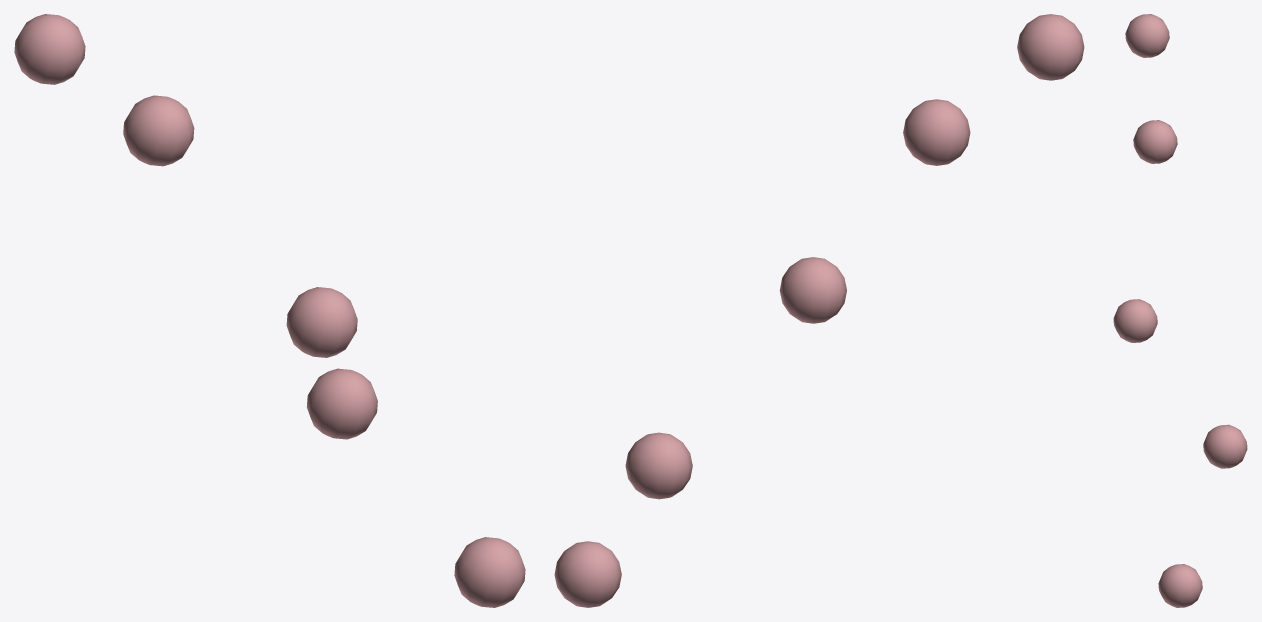
The picture shows the model from 3 angles, left to right: view 1: azimuth 30°, elevation 25°; view 2: azimuth 150°, elevation 25°; view 3: azimuth 270°, elevation 25°; orthographic projection. The views are drawn at different scales.
Parts seen in each view (by area): view 1: ZA_39c283643b7ee01d; view 2: ZA_39c283643b7ee01d; view 3: ZA_39c283643b7ee01d.
Boxes of the visible parts, x1=… form: ZA_39c283643b7ee01d: x1=14, y1=14, x2=525, y2=607; ZA_39c283643b7ee01d: x1=554, y1=14, x2=1084, y2=607; ZA_39c283643b7ee01d: x1=1113, y1=14, x2=1247, y2=607.
Bounding box in the file's own units: 0.0221 × 0.0288 × 0.00779.
